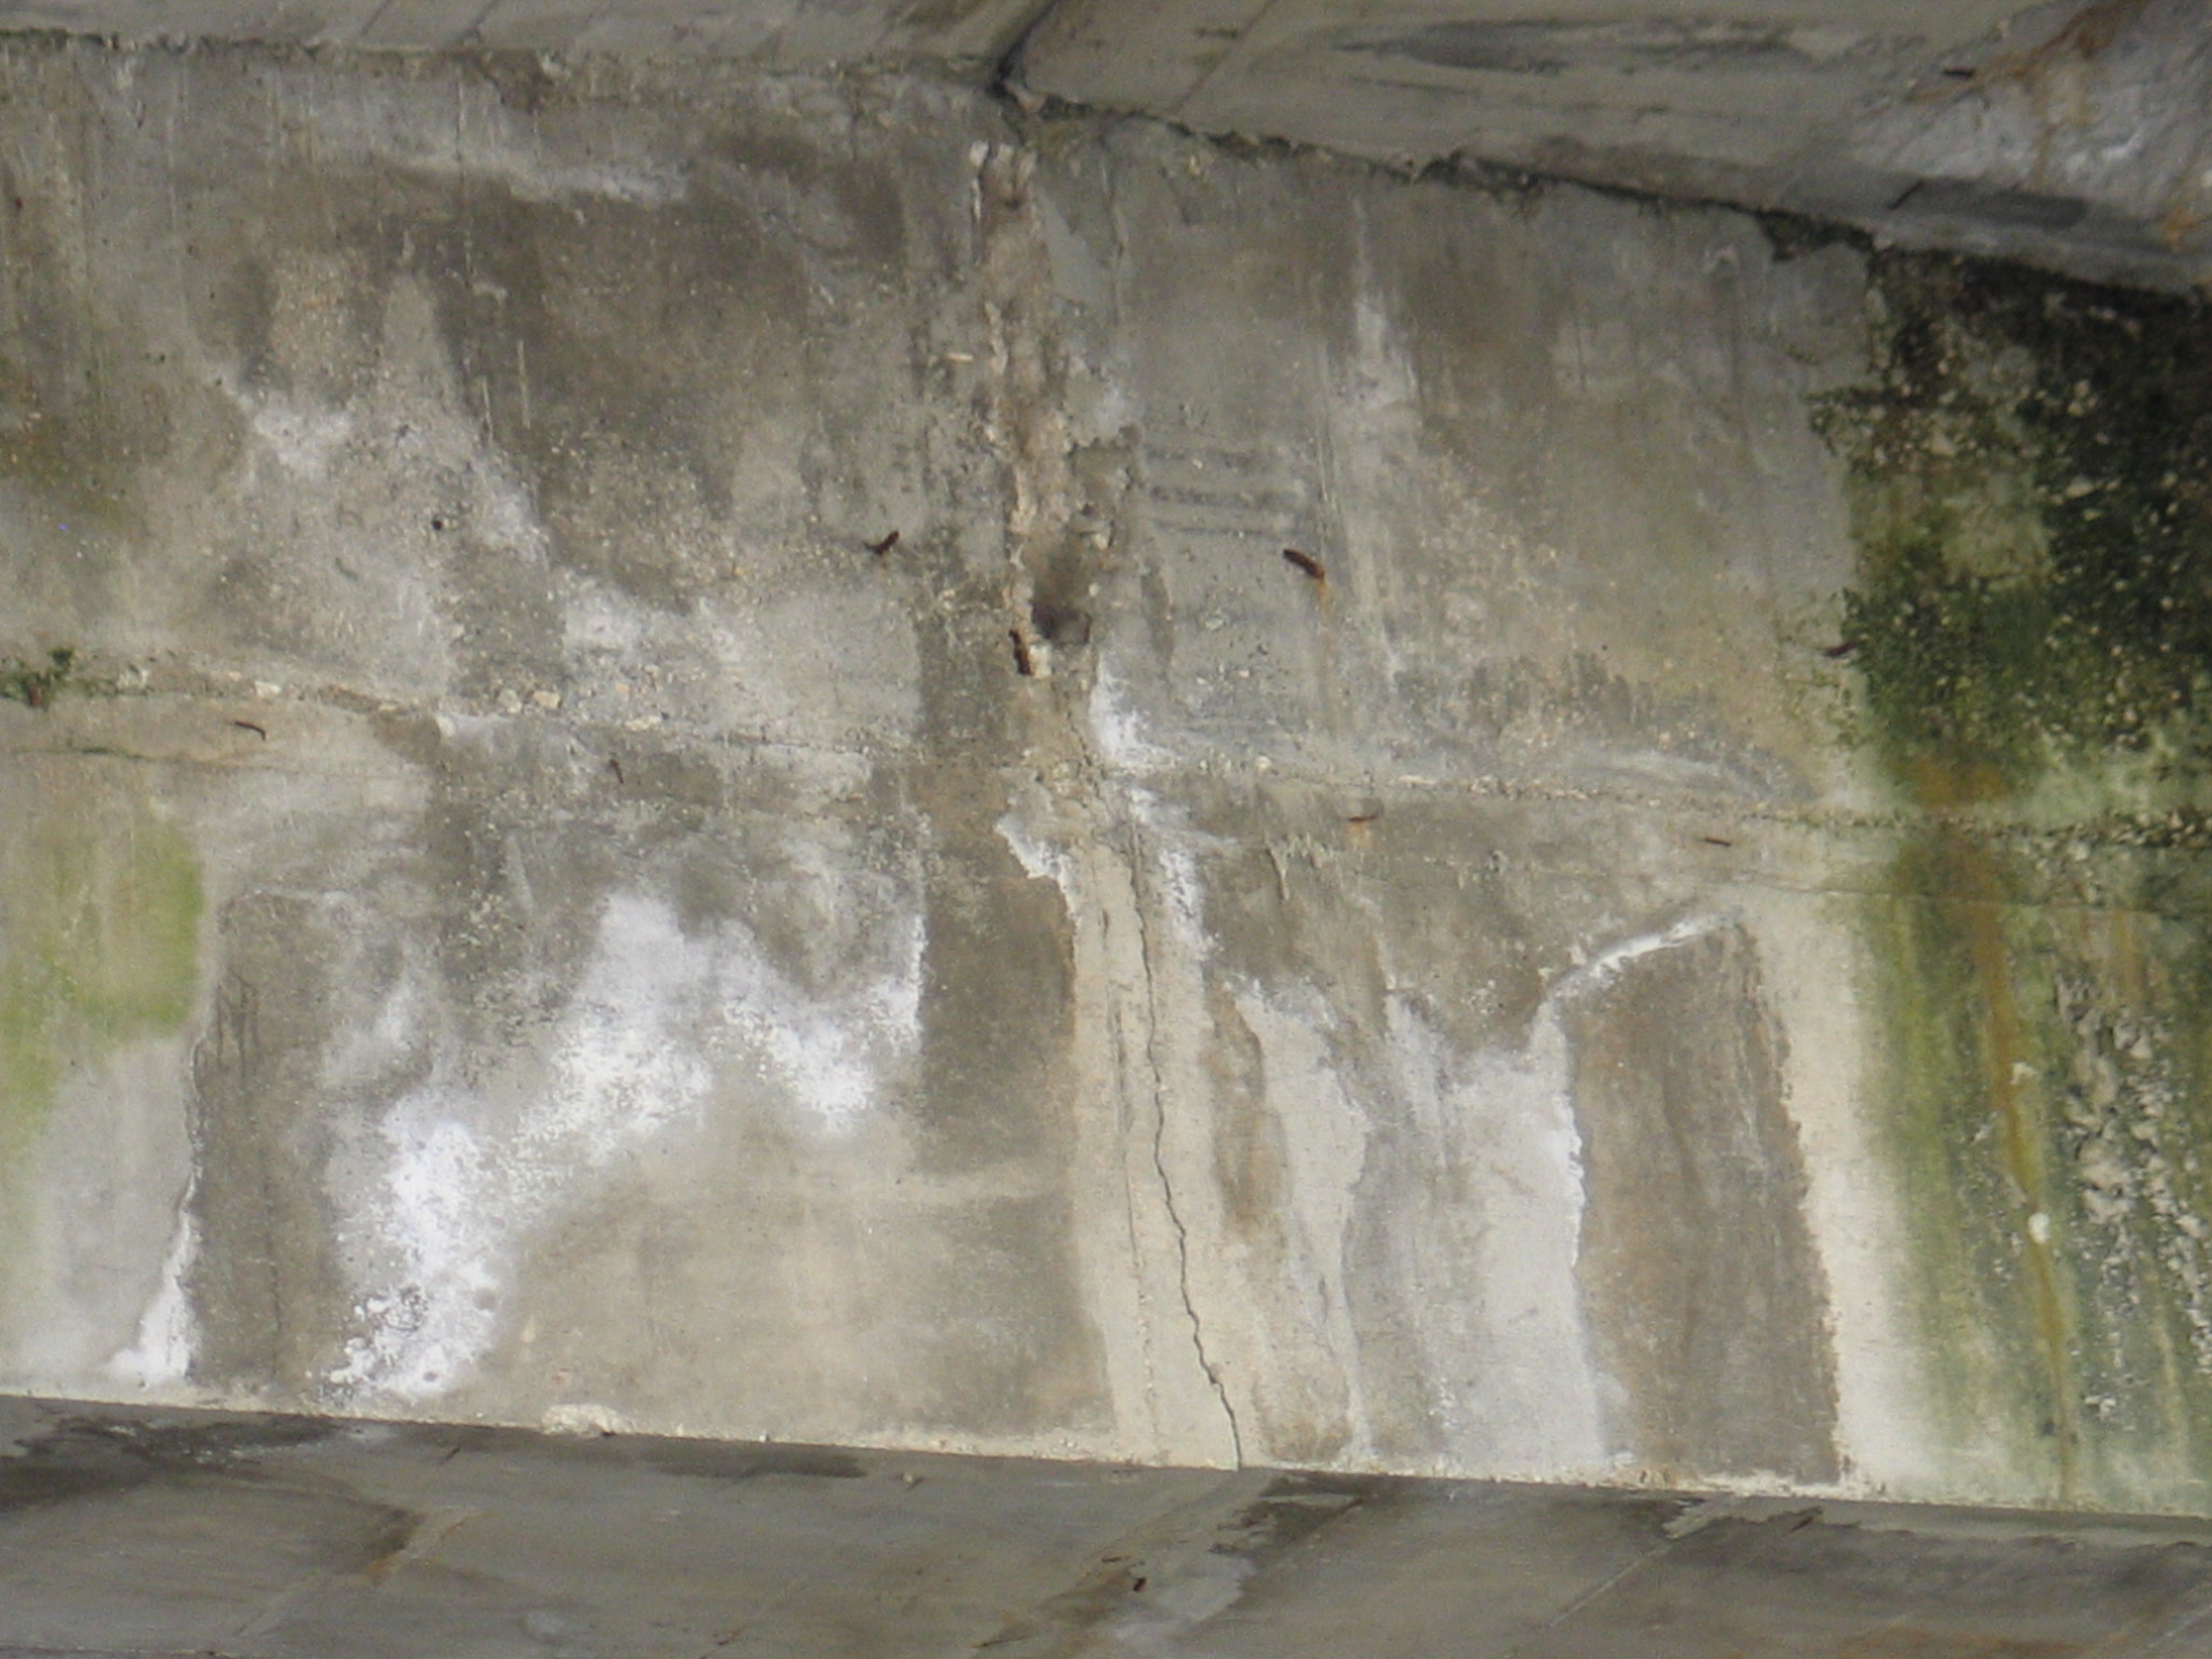defect: (329, 887, 932, 1405), (998, 692, 1251, 1469), (846, 279, 1141, 674), (108, 962, 296, 1396), (1533, 913, 1730, 1263), (1275, 542, 1329, 587)
